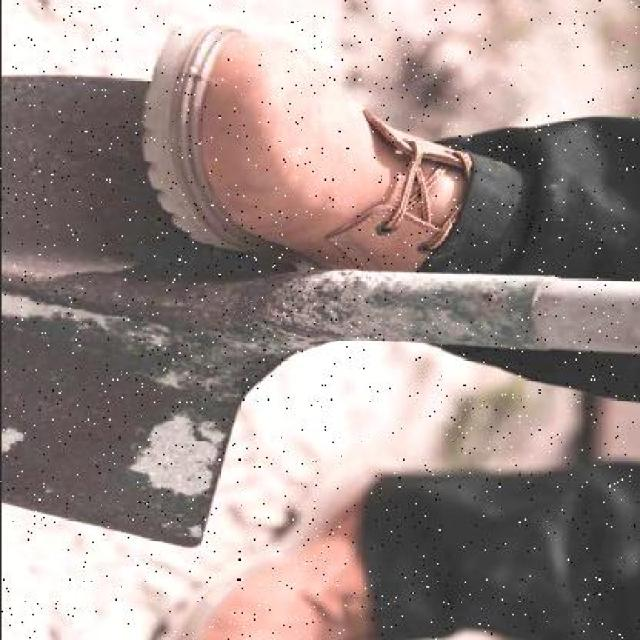shoes: (143, 41, 483, 287), (175, 459, 408, 639)
